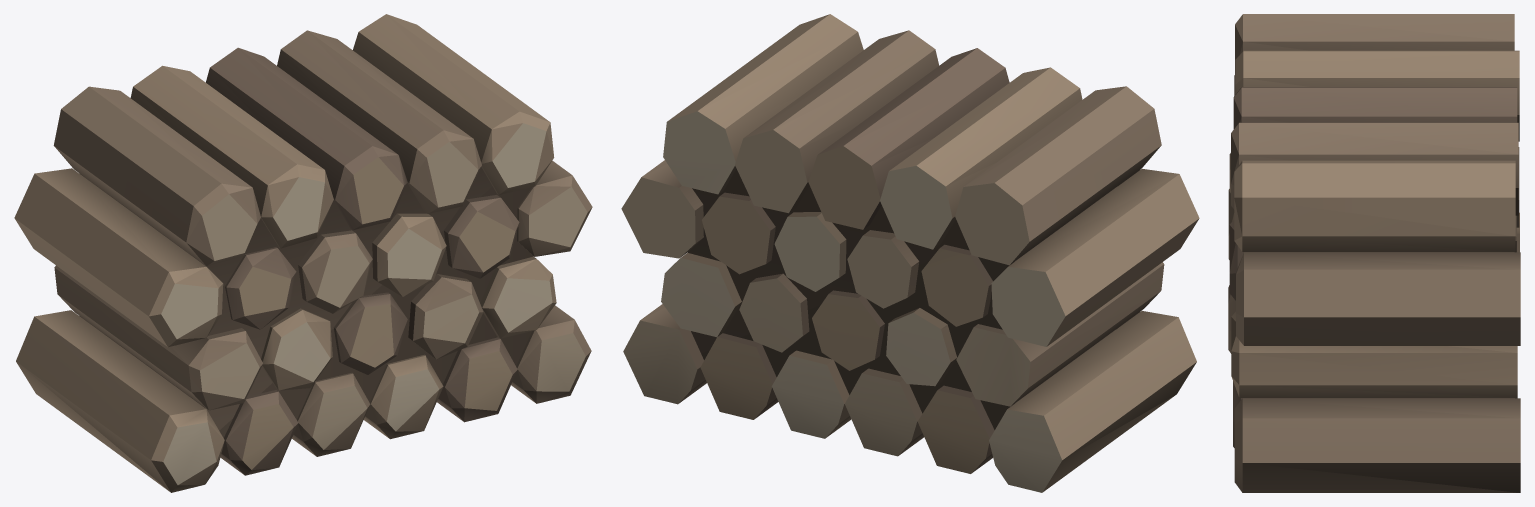
Rendered from firewood.glb.
3 views of the same model, side by side, from view 1: azimuth 30°, elevation 25°; view 2: azimuth 150°, elevation 25°; view 3: azimuth 270°, elevation 25° (orthographic). The views are drawn at different scales.
Visible parts, largest first — view 1: firewood; view 2: firewood; view 3: firewood.
Boxes of the visible parts, bbox=[...] form: firewood: bbox=[14, 14, 592, 492]; firewood: bbox=[621, 14, 1199, 492]; firewood: bbox=[1228, 14, 1520, 492].
Size of the model in its own units: 1.9 by 1.22 by 1.05.
